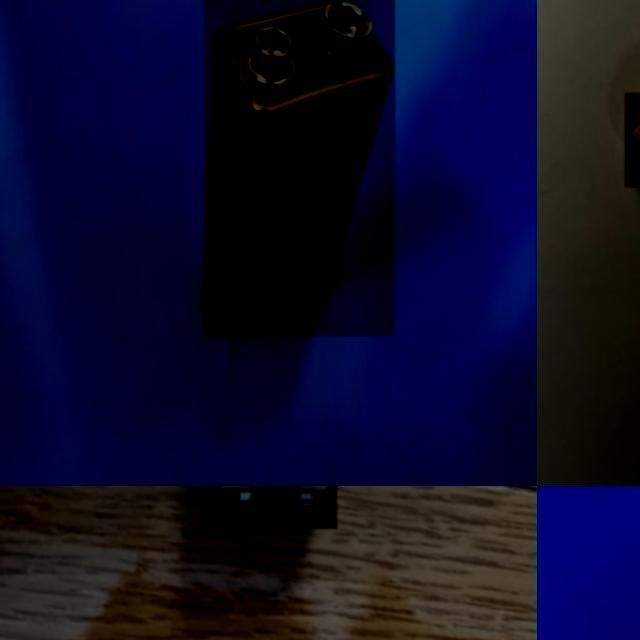9V: (204, 0, 395, 336)
